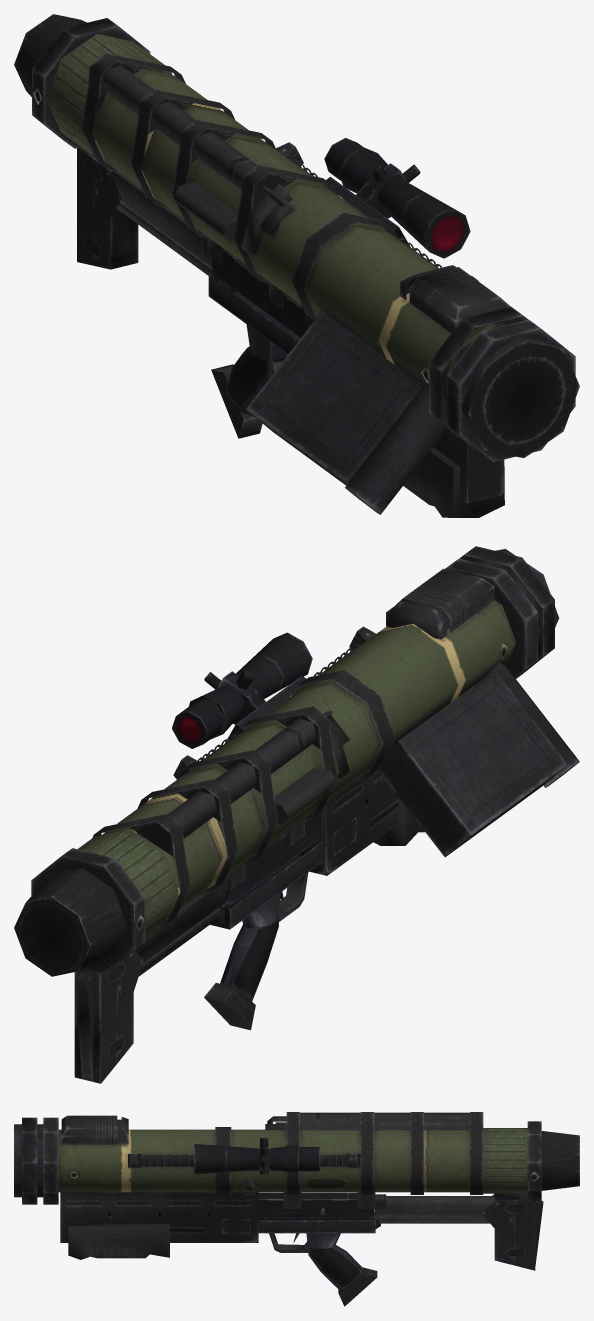
File: rocketlauncher.fbx
The picture shows the model from 3 angles, top to bottom: view 1: azimuth 30°, elevation 25°; view 2: azimuth 150°, elevation 25°; view 3: azimuth 270°, elevation 25°; orthographic projection. The views are drawn at different scales.
Parts seen in each view (by area): view 1: rocketlauncher; view 2: rocketlauncher; view 3: rocketlauncher.
Part boxes in pixels (x1,y1,x2,y2): rocketlauncher: (14,14,579,517); rocketlauncher: (14,546,579,1083); rocketlauncher: (14,1112,579,1306).
Size of the model in its own units: 11.3 by 14.45 by 40.17.
